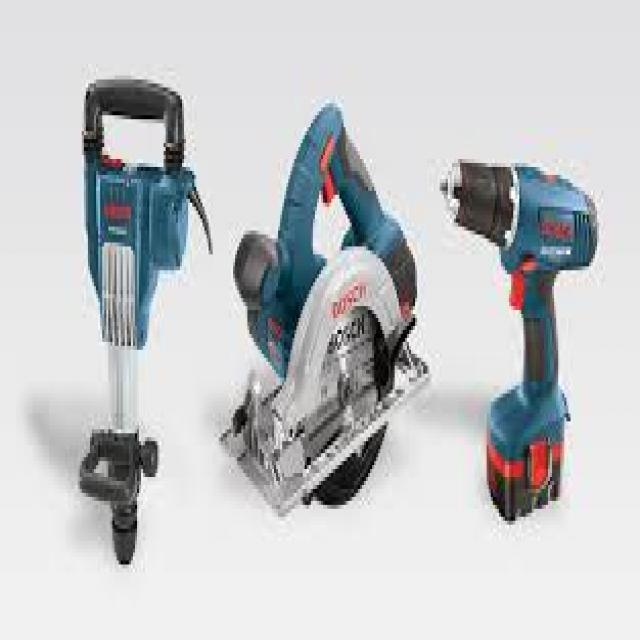drill: (435, 150, 606, 524)
